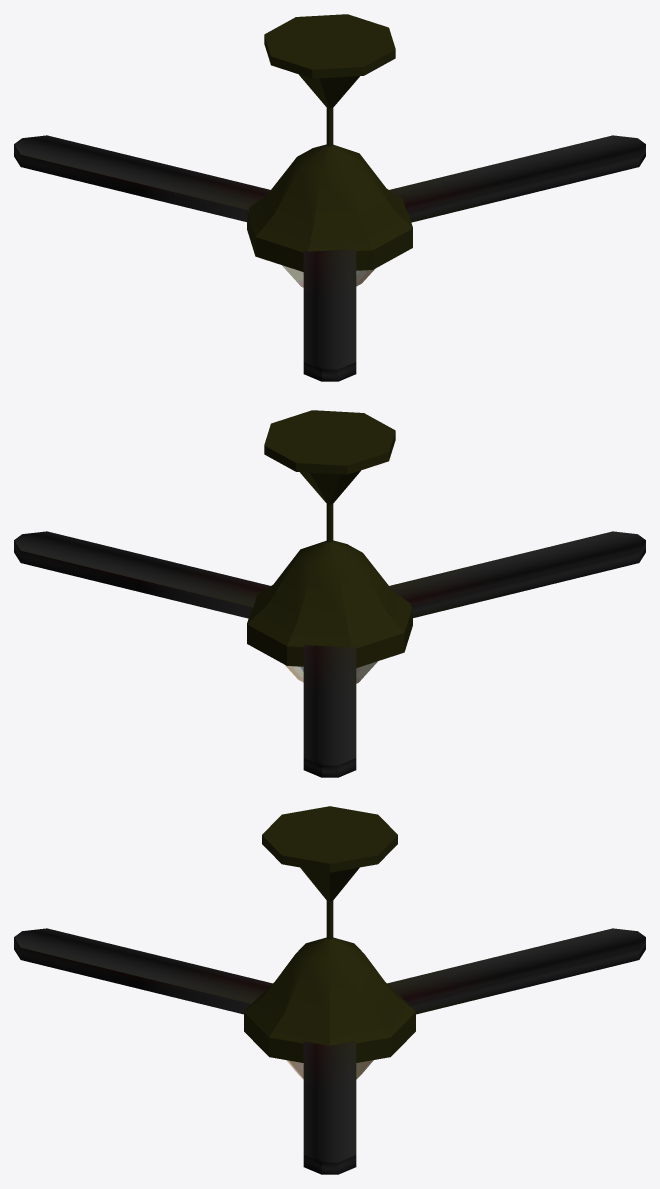
Rendered from FanShort.fbx.
3 views of the same model, one above another, from view 1: azimuth 30°, elevation 25°; view 2: azimuth 150°, elevation 25°; view 3: azimuth 270°, elevation 25° (orthographic).
Parts seen in each view (by area): view 1: FanBaldes, Fan; view 2: FanBaldes, Fan; view 3: FanBaldes, Fan.
Part boxes in pixels (<box>): FanBaldes: <box>14,135,645,381</box>; Fan: <box>247,14,412,287</box>; FanBaldes: <box>14,531,645,777</box>; Fan: <box>247,410,412,683</box>; FanBaldes: <box>14,928,645,1174</box>; Fan: <box>244,806,415,1079</box>.
Size of the model in its own units: 286 by 135 by 326.
